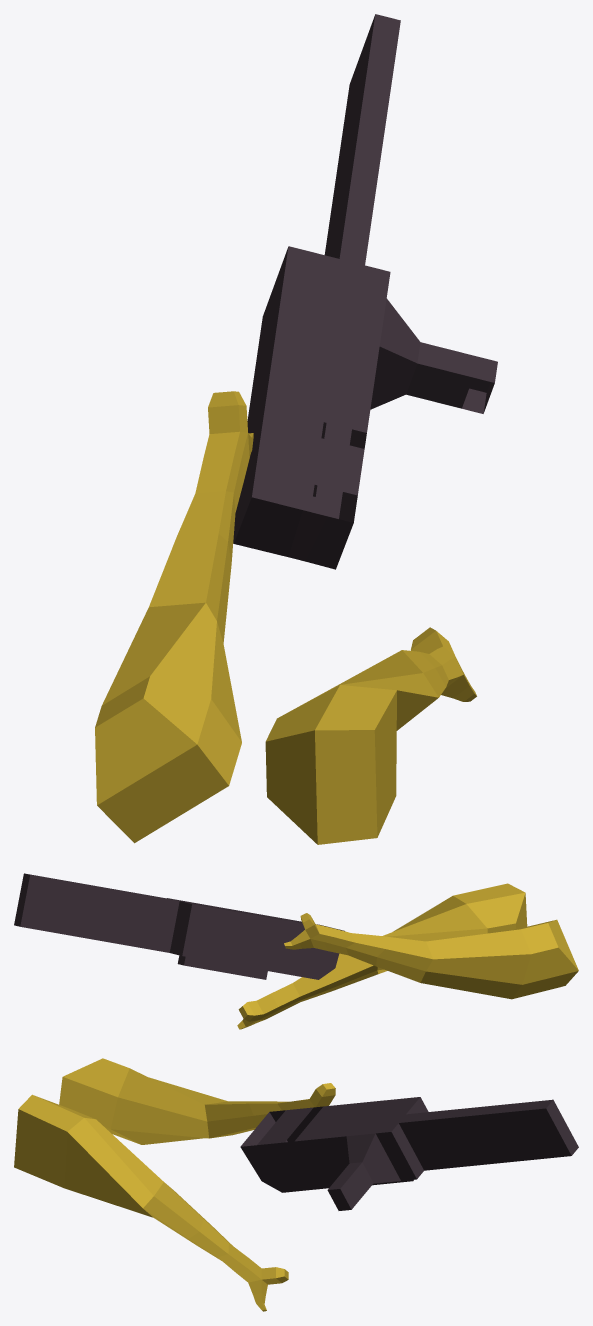
Rendered from arme_000102.obj.
The picture shows the model from 3 angles, top to bottom: view 1: azimuth 30°, elevation 25°; view 2: azimuth 150°, elevation 25°; view 3: azimuth 270°, elevation 25°; orthographic projection. The views are drawn at different scales.
Visible parts, largest first — view 1: Cube.048_Cube.024, Cube.046_Cube.010; view 2: Cube.048_Cube.024, Cube.046_Cube.010; view 3: Cube.048_Cube.024, Cube.046_Cube.010.
Boxes of the visible parts, <box> form: Cube.048_Cube.024: <box>95,391,476,844</box>; Cube.046_Cube.010: <box>233,14,497,569</box>; Cube.048_Cube.024: <box>237,883,578,1029</box>; Cube.046_Cube.010: <box>14,873,344,979</box>; Cube.048_Cube.024: <box>14,1058,335,1311</box>; Cube.046_Cube.010: <box>240,1097,578,1210</box>.
Size of the model in its own units: 1701 by 1054 by 2101.
